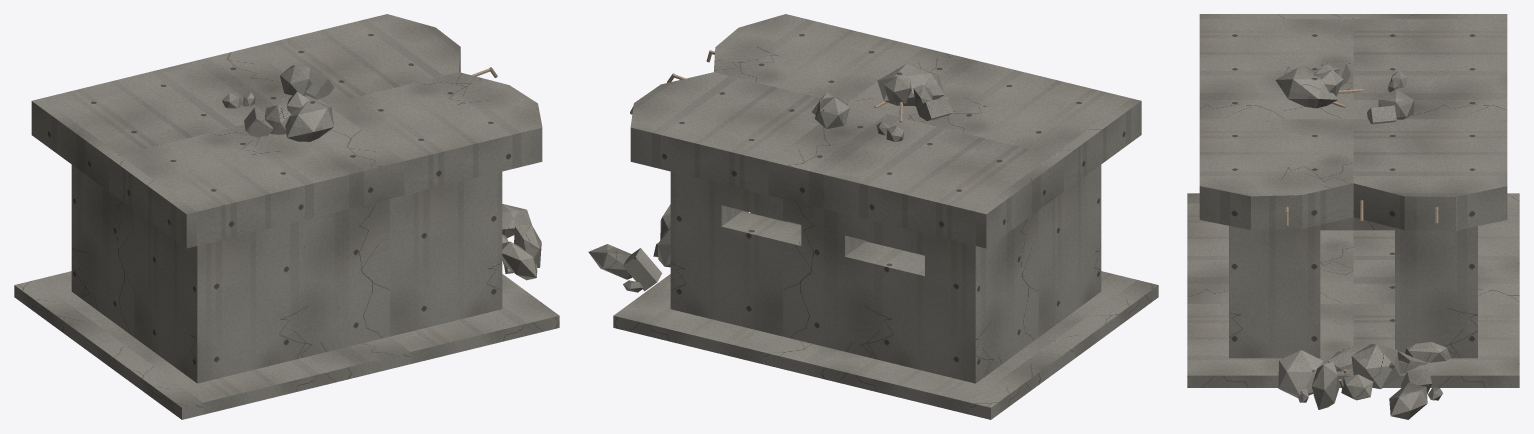
The model's file is Bunker.fbx.
3 views of the same model, side by side, from view 1: azimuth 30°, elevation 25°; view 2: azimuth 150°, elevation 25°; view 3: azimuth 270°, elevation 25° (orthographic).
Visible parts, largest first — view 1: Bunker; view 2: Bunker; view 3: Bunker.
Part boxes in pixels (x1,y1,x2,y2): Bunker: [14, 14, 559, 419]; Bunker: [588, 14, 1158, 419]; Bunker: [1187, 14, 1519, 419].
Size of the model in its own units: 6.3 by 3.06 by 4.
Materials: 2 (1 with a texture image).
